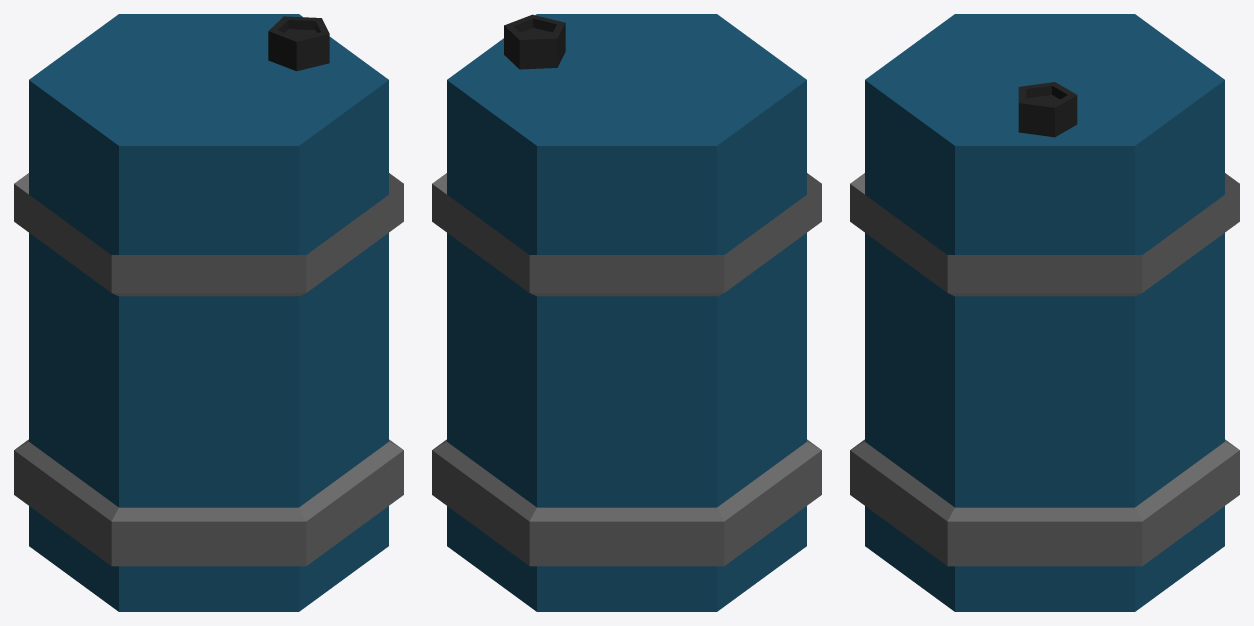
The model's file is Barrel.glb.
The picture shows the model from 3 angles, left to right: view 1: azimuth 30°, elevation 25°; view 2: azimuth 150°, elevation 25°; view 3: azimuth 270°, elevation 25°; orthographic projection.
Parts seen in each view (by area): view 1: Barrel; view 2: Barrel; view 3: Barrel.
Boxes of the visible parts, left/top/right/bottom form: Barrel: left=14, top=14, right=403, bottom=611; Barrel: left=432, top=14, right=821, bottom=611; Barrel: left=850, top=14, right=1239, bottom=611.
Size of the model in its own units: 0.9613 by 1.56 by 1.11.
